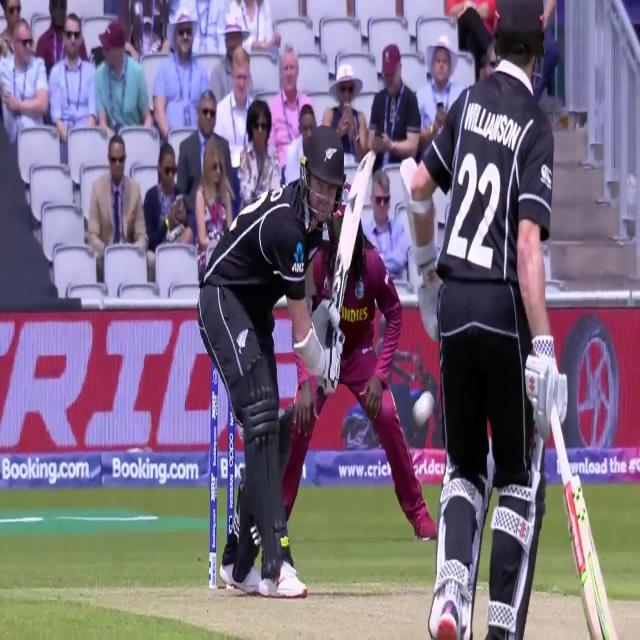ball: (412, 388, 438, 434)
